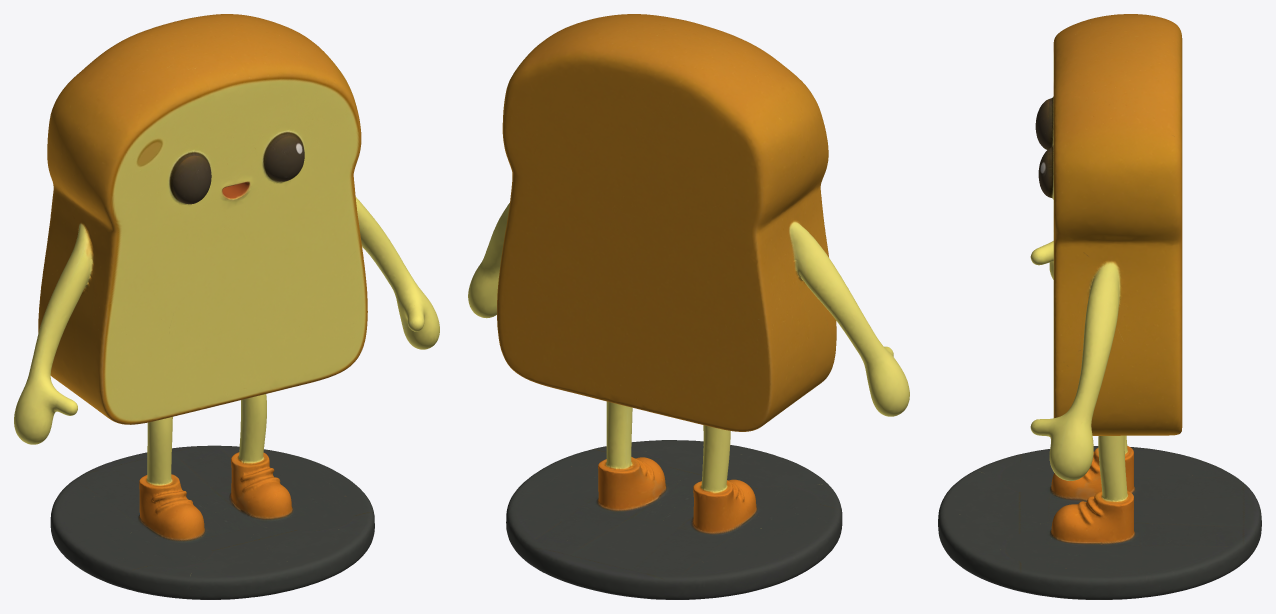
File: glow-toast.glb
3 views of the same model, side by side, from view 1: azimuth 30°, elevation 25°; view 2: azimuth 150°, elevation 25°; view 3: azimuth 270°, elevation 25° (orthographic). The views are drawn at different scales.
Size of the model in its own units: 1.7 by 1.9 by 1.12.
Materials: 1 (1 with a texture image).
